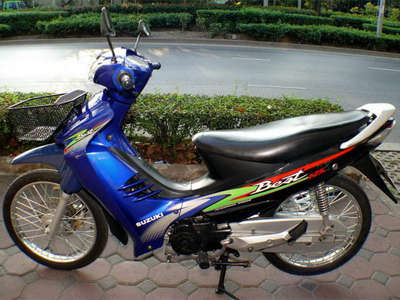motorcycle: (3, 46, 394, 275)
